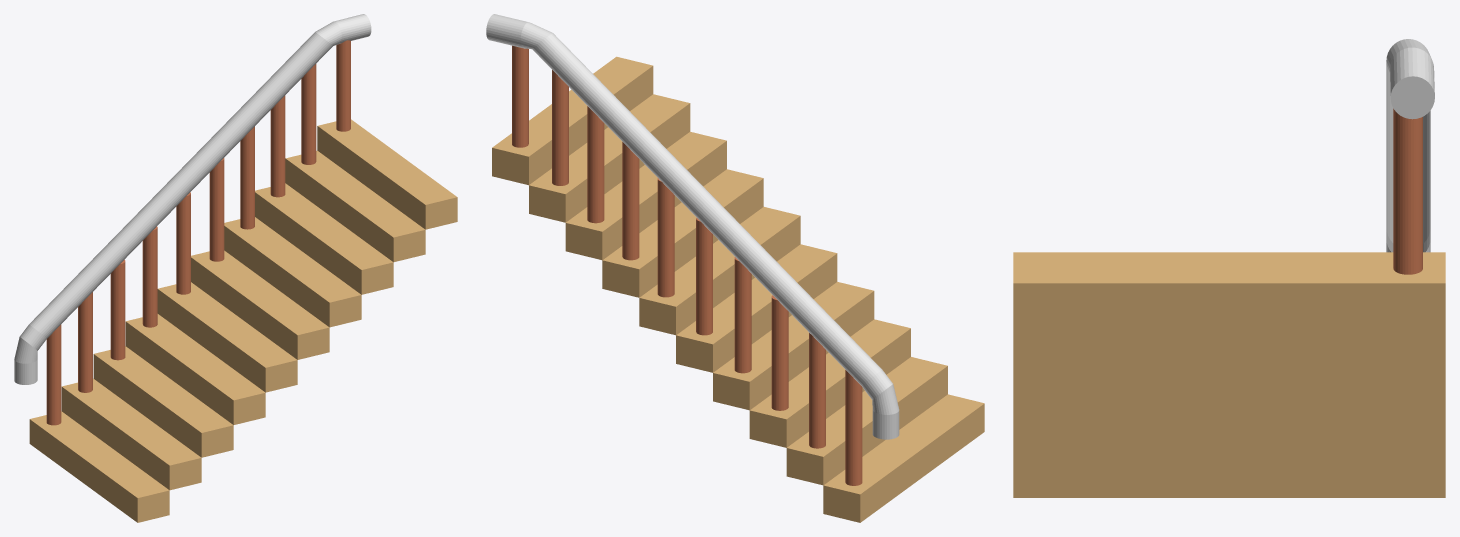
Rendered from stairs.fbx.
3 renders of one model, left to right at view 1: azimuth 30°, elevation 25°; view 2: azimuth 150°, elevation 25°; view 3: azimuth 270°, elevation 25°, orthographic. The views are drawn at different scales.
Visible parts, largest first — view 1: Stairs, Banester_Legs, Bannester; view 2: Stairs, Banester_Legs, Bannester; view 3: Stairs, Bannester, Banester_Legs.
Part boxes in pixels (x1,y1,x2,y2): Stairs: (29,119,457,522); Banester_Legs: (46,40,350,425); Bannester: (14,14,371,384); Stairs: (492,56,984,522); Banester_Legs: (512,45,862,485); Bannester: (486,14,899,439); Stairs: (1013,252,1445,497); Bannester: (1386,39,1434,252); Banester_Legs: (1393,108,1422,274).
Bounding box in the file's own units: 842 × 814 × 449.
